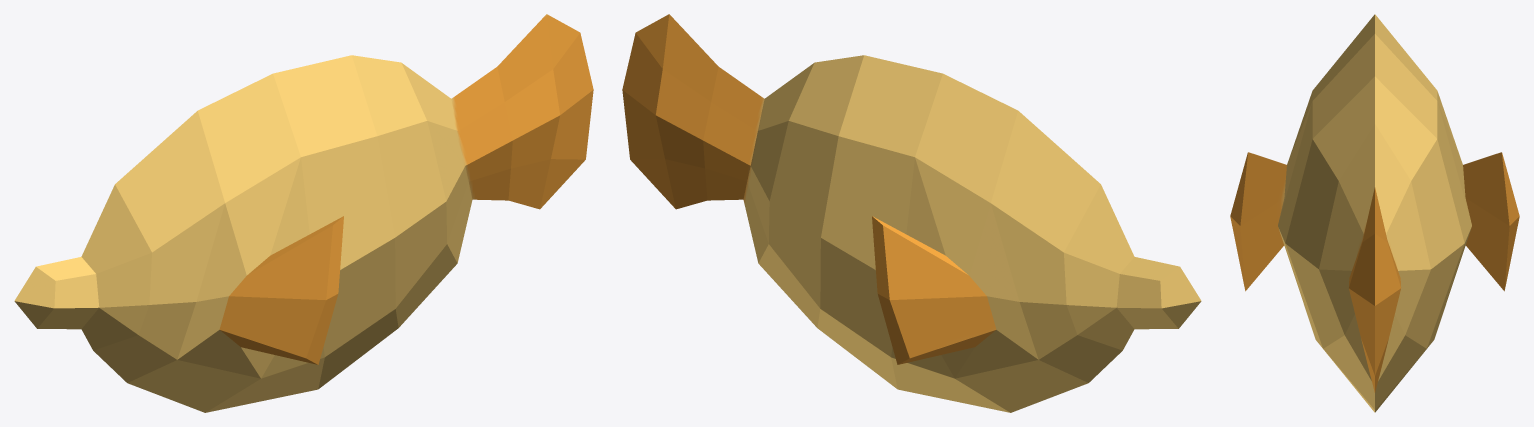
Rendered from fish.fbx.
3 renders of one model, left to right at view 1: azimuth 30°, elevation 25°; view 2: azimuth 150°, elevation 25°; view 3: azimuth 270°, elevation 25°, orthographic. The views are drawn at different scales.
Visible parts, largest first — view 1: pSphere1; view 2: pSphere1; view 3: pSphere1.
Part boxes in pixels (left/top/right/bottom): pSphere1: left=14, top=14, right=593, bottom=412; pSphere1: left=622, top=14, right=1201, bottom=412; pSphere1: left=1230, top=14, right=1519, bottom=412.
Bounding box in the file's own units: 19.68 × 10.61 × 7.84.
